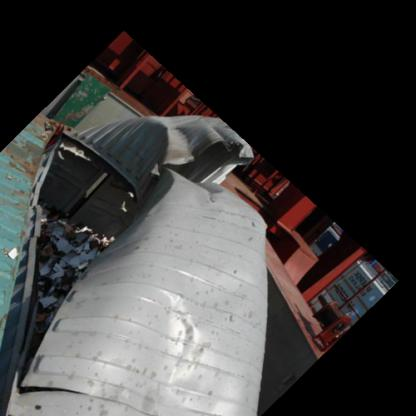Damage: (0, 147, 159, 355)
